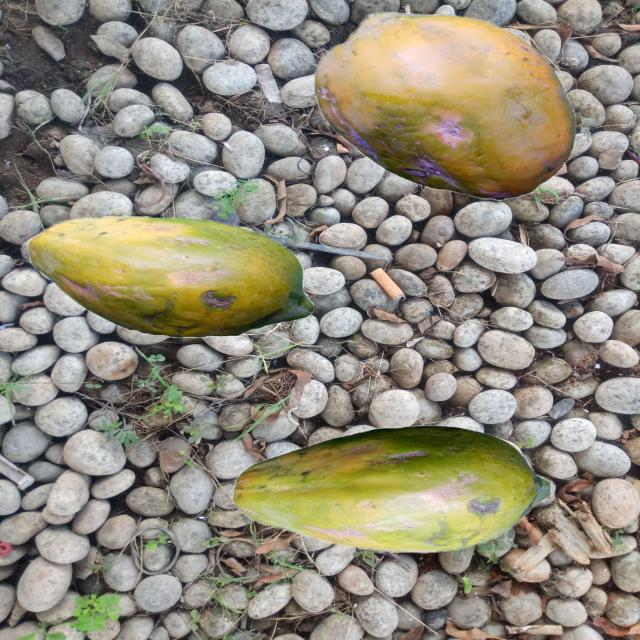Pepaya rippen: (310, 10, 580, 208), (223, 422, 566, 560), (10, 213, 318, 342)
